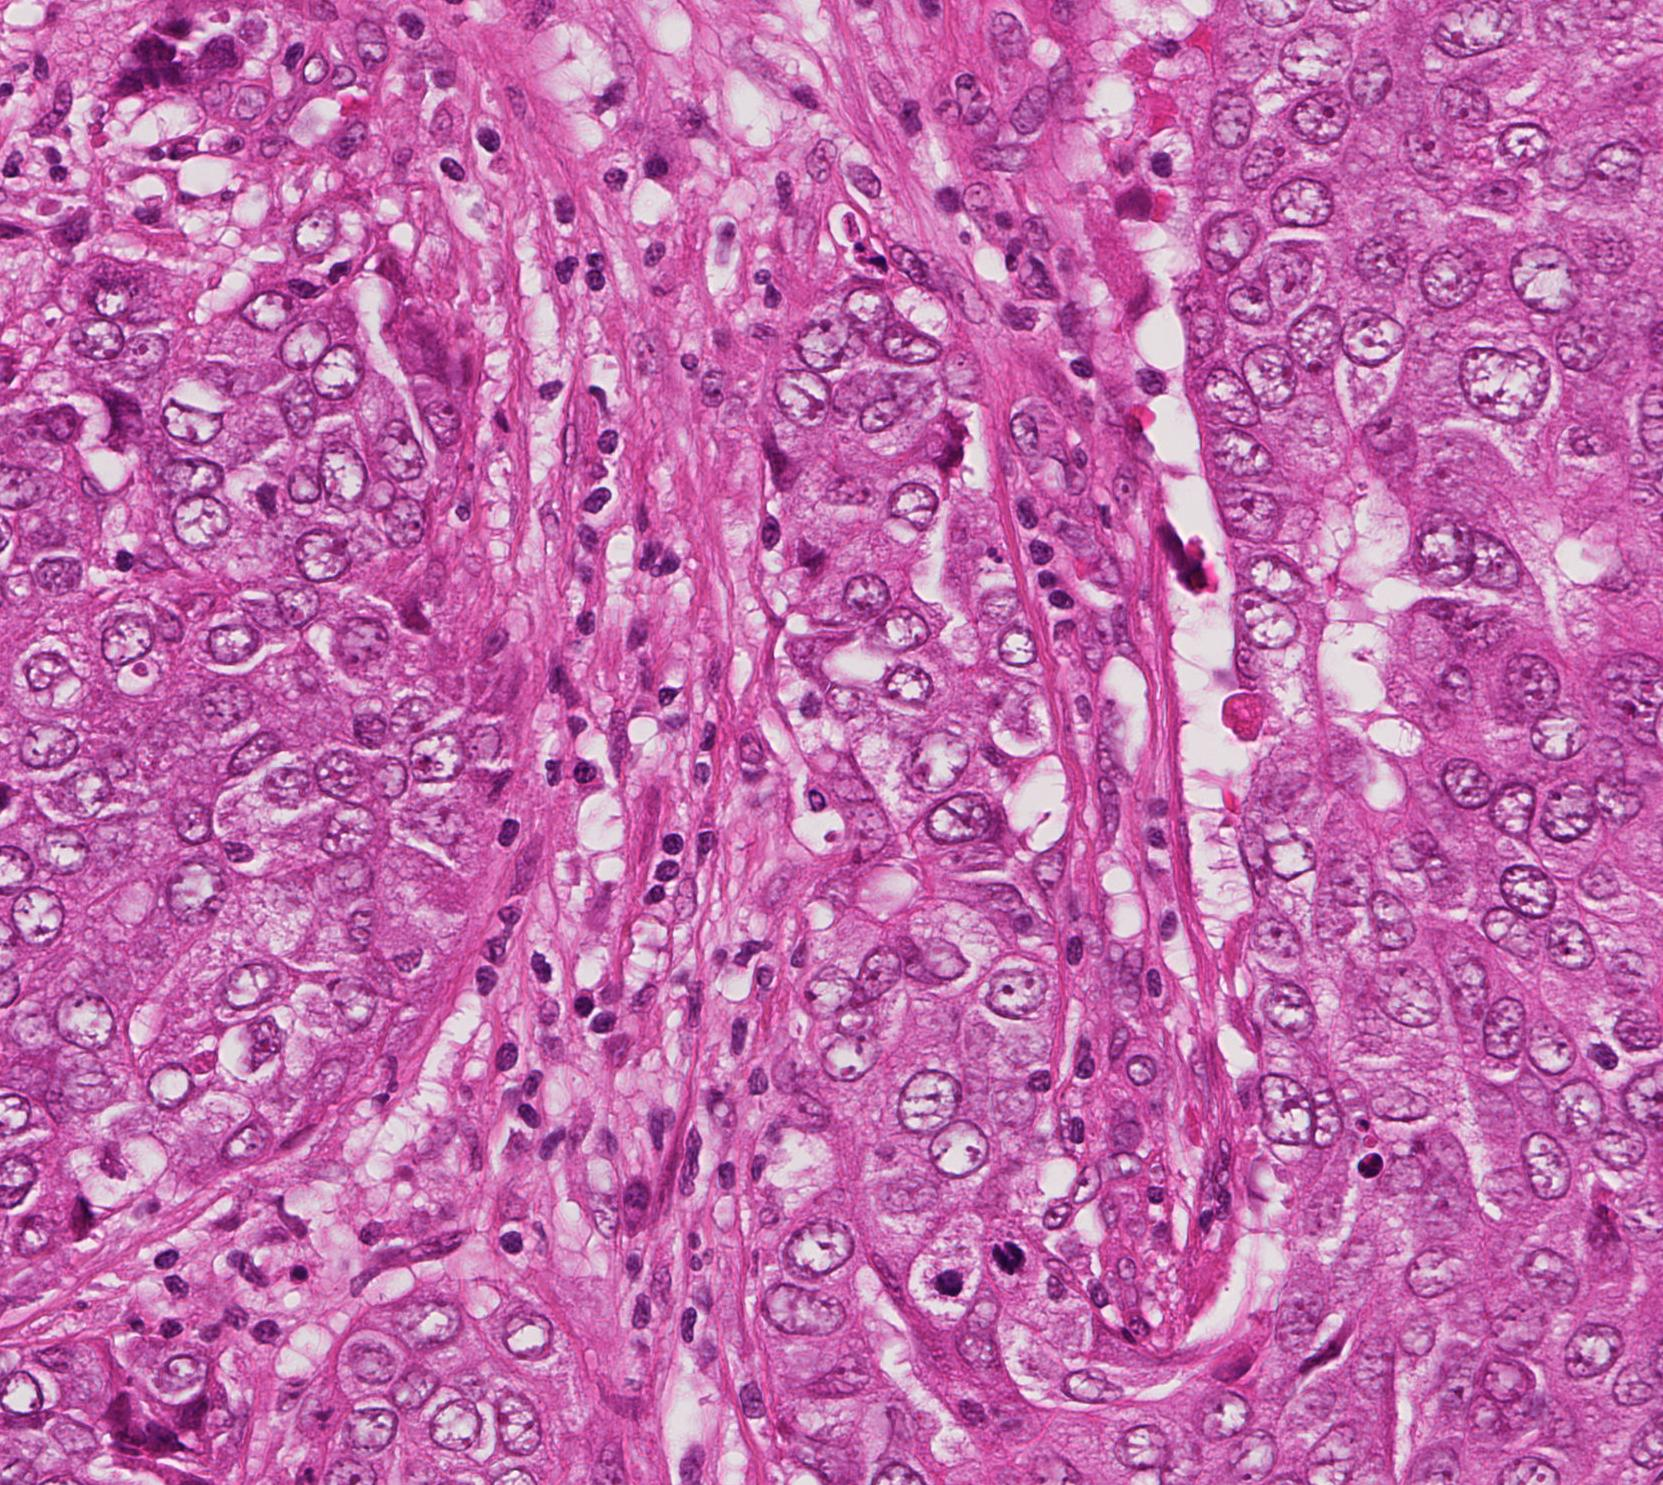mitosis: (976, 1223, 1037, 1283)
